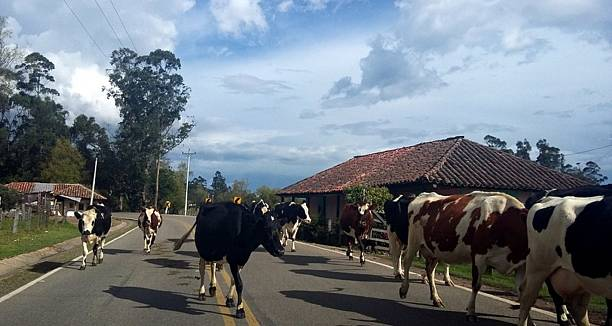inek: (388, 190, 513, 322), (188, 198, 293, 325), (506, 207, 611, 322), (336, 200, 382, 272), (71, 200, 114, 276), (133, 207, 164, 266)
